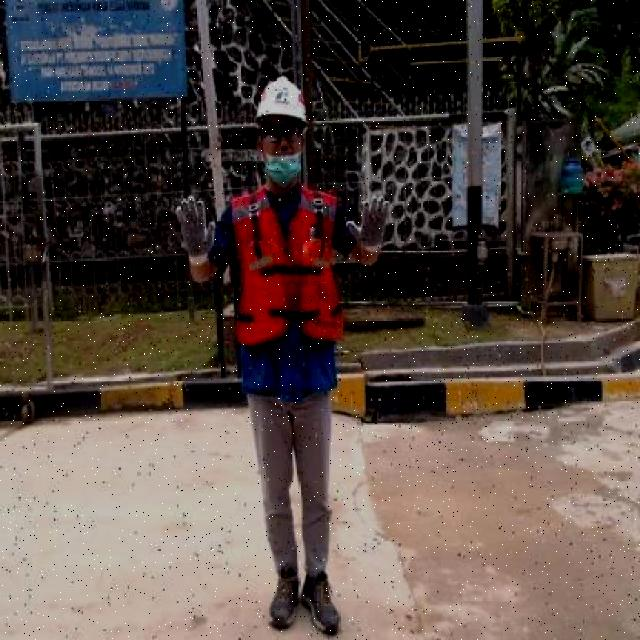Boots: (301, 568, 341, 638), (268, 564, 302, 632)
Gloves: (174, 196, 217, 267), (343, 196, 389, 253)
Helmet: (256, 72, 310, 128)
Mask: (234, 238, 344, 346)
